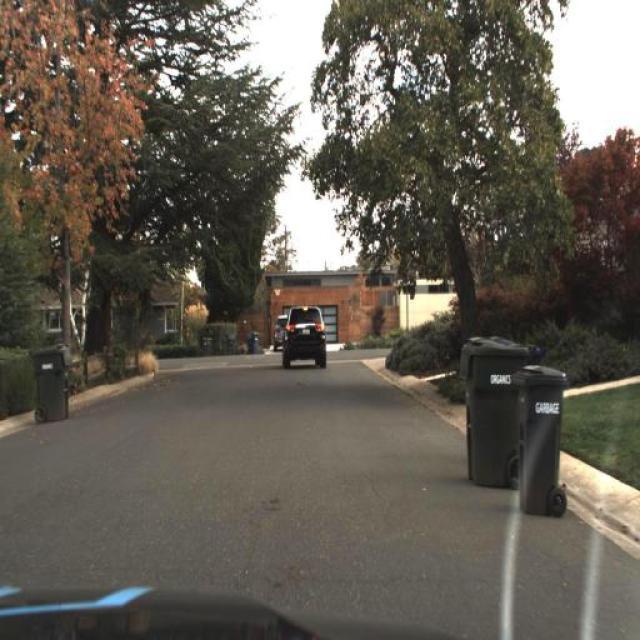car: (281, 296, 333, 378), (268, 304, 298, 362)
